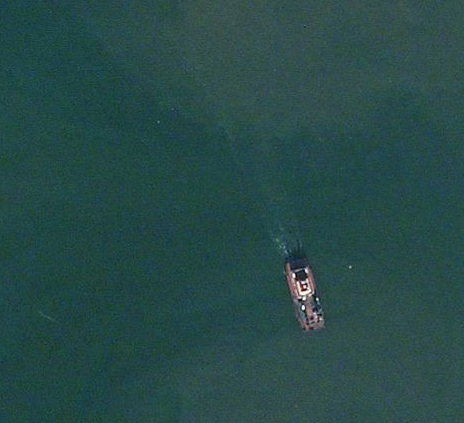ship: (276, 253, 332, 336)
